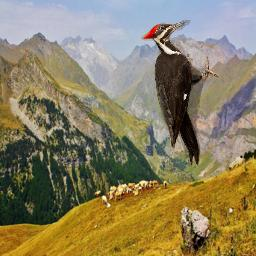Woodpecker: (141, 20, 219, 168)
